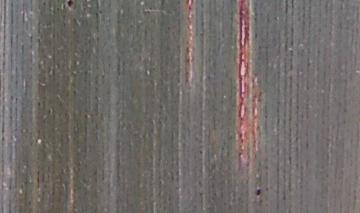tarspot: (253, 187, 261, 197), (65, 1, 74, 8)
